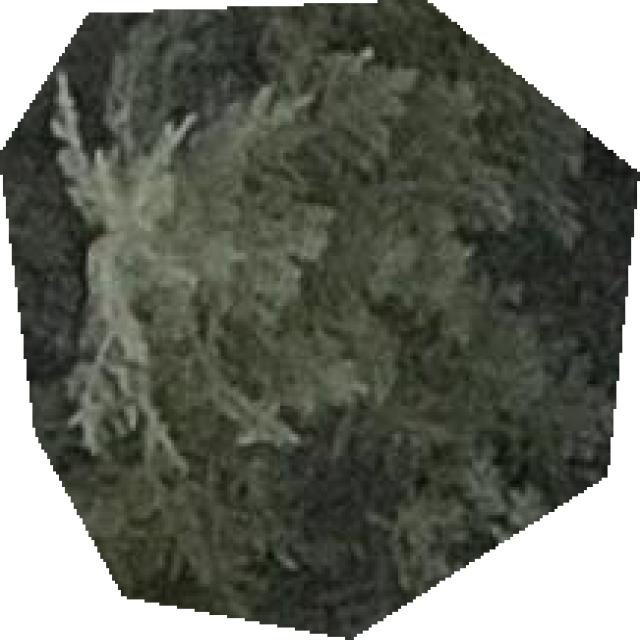spruce: (0, 0, 637, 637)
